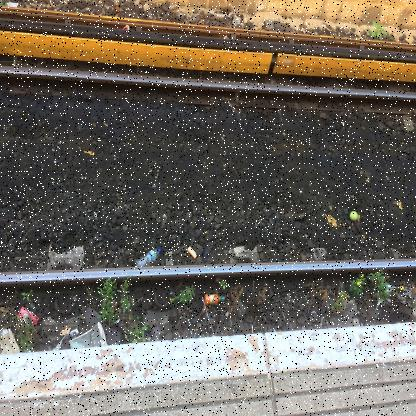Cigarette: (252, 325, 253, 333)
Clear plastic bottle: (135, 247, 162, 267), (204, 294, 224, 305)
Glass bottle: (385, 284, 404, 293)
Normal paper: (69, 322, 108, 349), (52, 328, 79, 351), (228, 12, 241, 26)
Other plastic: (17, 306, 39, 325)
Other plastic bottle: (187, 246, 197, 258), (350, 211, 358, 221)
Paper bag: (0, 330, 20, 354)
Plastic straw: (202, 297, 213, 332)
Pop tab: (163, 215, 166, 217)
Shoe: (85, 307, 125, 345)
Unlabeled litter: (1, 328, 11, 338), (122, 25, 129, 30), (223, 35, 230, 39), (281, 210, 284, 215), (194, 334, 196, 338), (207, 317, 211, 319)
